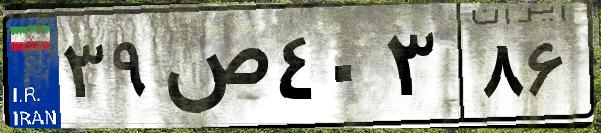0: (330, 28, 385, 110)
3: (385, 28, 445, 110), (57, 26, 110, 100)
4: (270, 28, 330, 110)
6: (525, 38, 570, 115)
8: (475, 38, 525, 113)
9: (110, 28, 158, 98)
ص: (158, 20, 270, 120)
